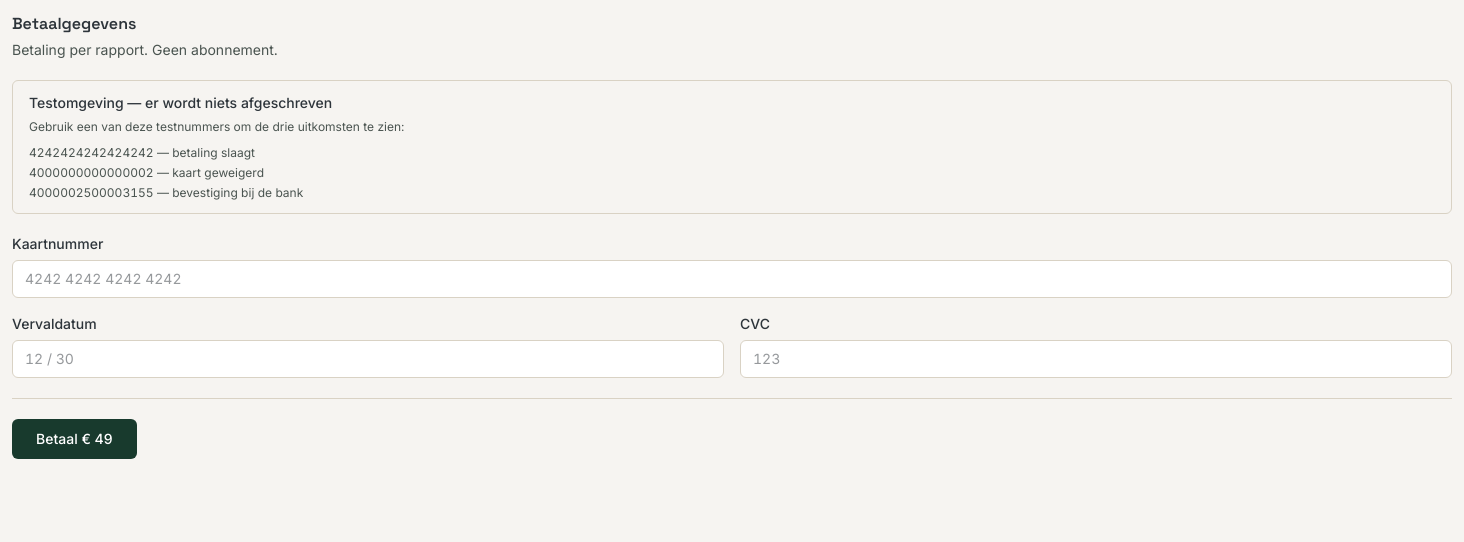
Scenario: PaymentForm - the declined card › shows the reason and leaves the form usable for another attempt
Type "4000000000000002" into the field labelled "Kaartnummer".
click(732, 278); type("4000000000000002")  # box [12,260,1452,298]
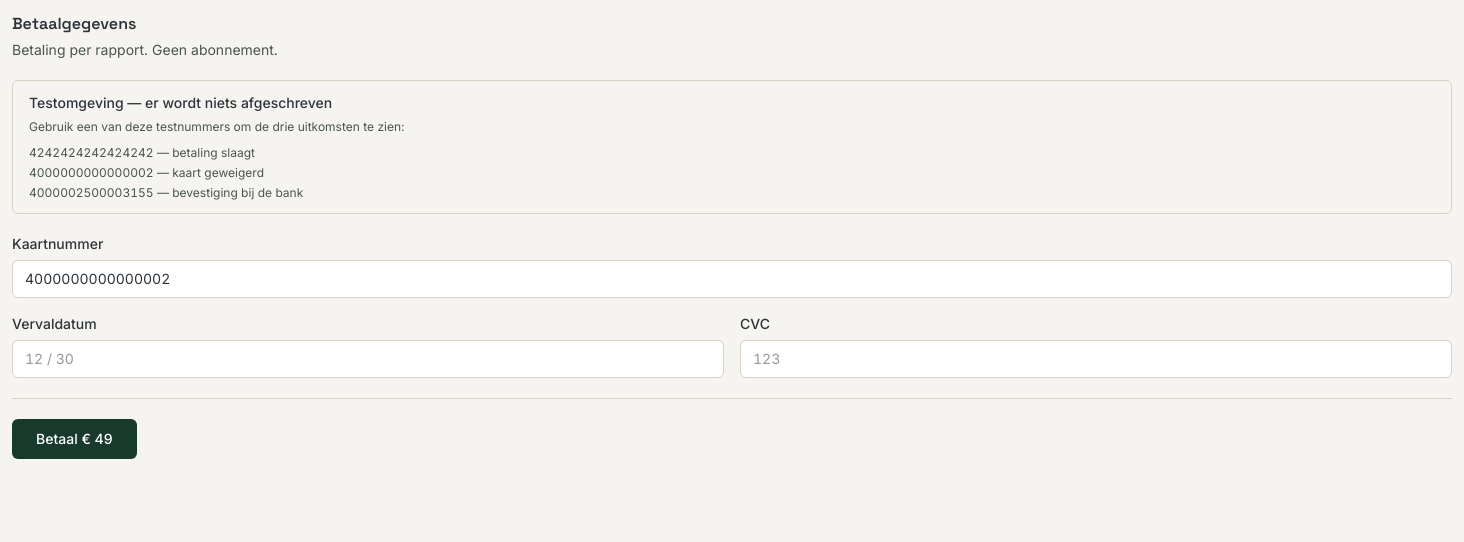
Click the button "Betaal € 49".
click(74, 438)  # box [12,418,137,458]
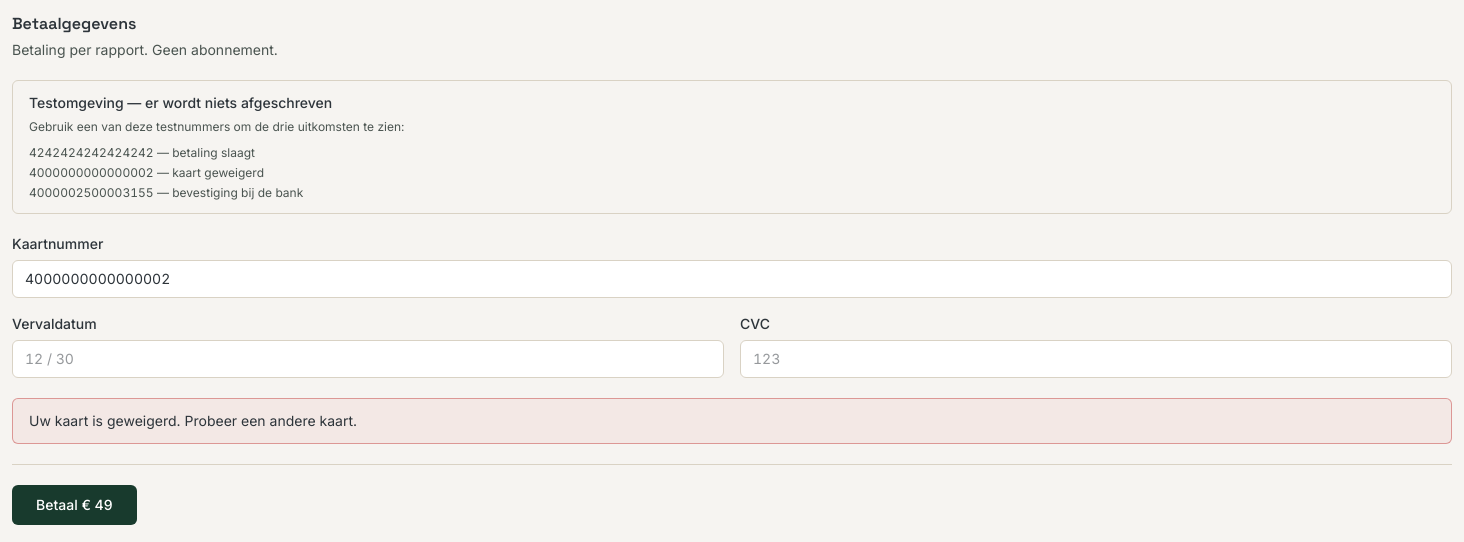
Expected: the button "Betaal € 49" is enabled, [12,484,137,524]
Expected: the message "Uw kaart is geweigerd. Probeer een andere kaart." is shown, [12,398,1452,444]
Expected: the message shows "Uw kaart is geweigerd", [29,412,357,428]
